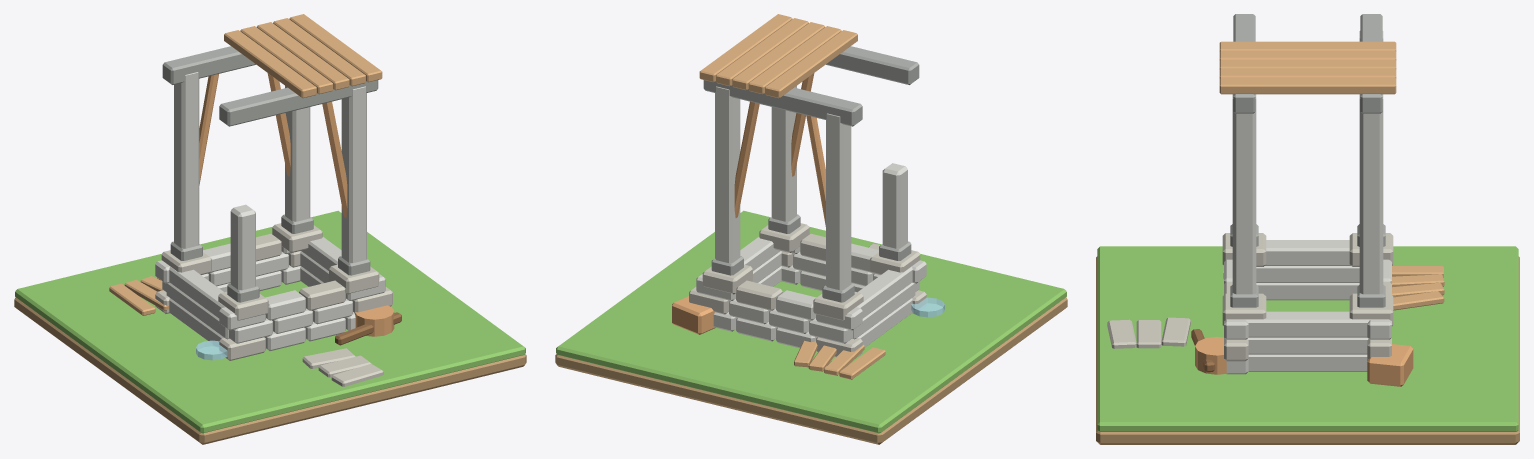
The model's file is tower_l04_damaged.glb.
3 renders of one model, left to right at view 1: azimuth 30°, elevation 25°; view 2: azimuth 150°, elevation 25°; view 3: azimuth 270°, elevation 25°, orthographic. The views are drawn at different scales.
Parts seen in each view (by area): view 1: tower_l04_grass_tile, tower_l04_earth_tile, post_-0.61_0.54, post_0.61_-0.54, deck_bearer_-0.54, post_0.61_0.54, post_-0.61_-0.54, deck_bearer_0.54, deck_board_4, deck_board_5, deck_board_8, deck_board_6 (+33 smaller); view 2: tower_l04_grass_tile, tower_l04_earth_tile, post_-0.61_0.54, post_0.61_0.54, post_0.61_-0.54, deck_bearer_0.54, post_-0.61_-0.54, deck_bearer_-0.54, deck_board_4, deck_board_5, deck_board_8, deck_board_6 (+28 smaller); view 3: tower_l04_grass_tile, tower_l04_earth_tile, post_0.61_0.54, post_0.61_-0.54, deck_board_8, stone_return_2_0.72, stone_return_2_-0.72, stone_return_1_0.72, stone_return_0_0.72, deck_board_4, deck_board_5, deck_board_6 (+24 smaller).
Part boxes in pixels (x1=…): tower_l04_grass_tile: x1=15, y1=210, x2=525, y2=433; tower_l04_earth_tile: x1=14, y1=297, x2=526, y2=444; post_-0.61_0.54: x1=174, y1=72, x2=199, y2=248; post_0.61_-0.54: x1=341, y1=86, x2=366, y2=262; deck_bearer_-0.54: x1=219, y1=80, x2=378, y2=126; post_0.61_0.54: x1=285, y1=86, x2=310, y2=221; post_-0.61_-0.54: x1=230, y1=204, x2=255, y2=290; deck_bearer_0.54: x1=162, y1=46, x2=255, y2=84; deck_board_4: x1=224, y1=30, x2=316, y2=98; deck_board_5: x1=240, y1=26, x2=333, y2=94; deck_board_8: x1=289, y1=14, x2=382, y2=82; deck_board_6: x1=257, y1=22, x2=349, y2=90; tower_l04_grass_tile: x1=556, y1=210, x2=1066, y2=433; tower_l04_earth_tile: x1=555, y1=297, x2=1067, y2=444; post_-0.61_0.54: x1=826, y1=113, x2=851, y2=290; post_0.61_0.54: x1=715, y1=86, x2=740, y2=262; post_0.61_-0.54: x1=771, y1=86, x2=796, y2=221; deck_bearer_0.54: x1=703, y1=80, x2=862, y2=126; post_-0.61_-0.54: x1=882, y1=163, x2=907, y2=248; deck_bearer_-0.54: x1=826, y1=46, x2=919, y2=84; deck_board_4: x1=765, y1=30, x2=857, y2=98; deck_board_5: x1=748, y1=26, x2=841, y2=94; deck_board_8: x1=699, y1=14, x2=792, y2=82; deck_board_6: x1=732, y1=22, x2=824, y2=90; tower_l04_grass_tile: x1=1097, y1=246, x2=1518, y2=431; tower_l04_earth_tile: x1=1096, y1=256, x2=1519, y2=444; post_0.61_0.54: x1=1359, y1=94, x2=1383, y2=294; post_0.61_-0.54: x1=1232, y1=94, x2=1256, y2=294; deck_board_8: x1=1219, y1=77, x2=1396, y2=94; stone_return_2_0.72: x1=1245, y1=311, x2=1370, y2=337; stone_return_2_-0.72: x1=1265, y1=240, x2=1350, y2=265; stone_return_1_0.72: x1=1247, y1=337, x2=1368, y2=354; stone_return_0_0.72: x1=1248, y1=354, x2=1367, y2=371; deck_board_4: x1=1219, y1=41, x2=1396, y2=51; deck_board_5: x1=1219, y1=50, x2=1396, y2=60; deck_board_6: x1=1219, y1=59, x2=1396, y2=69.
Size of the model in its own units: 3.6 by 2.93 by 3.6.
